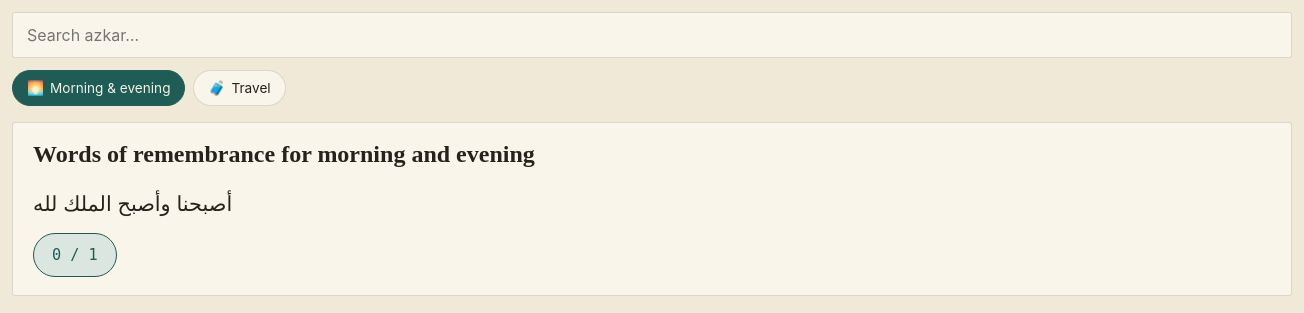
Test: AzkarBrowser › says so when nothing matches
Type "zzz" into the search field at (652, 35), box left=12, top=12, right=1292, bottom=58
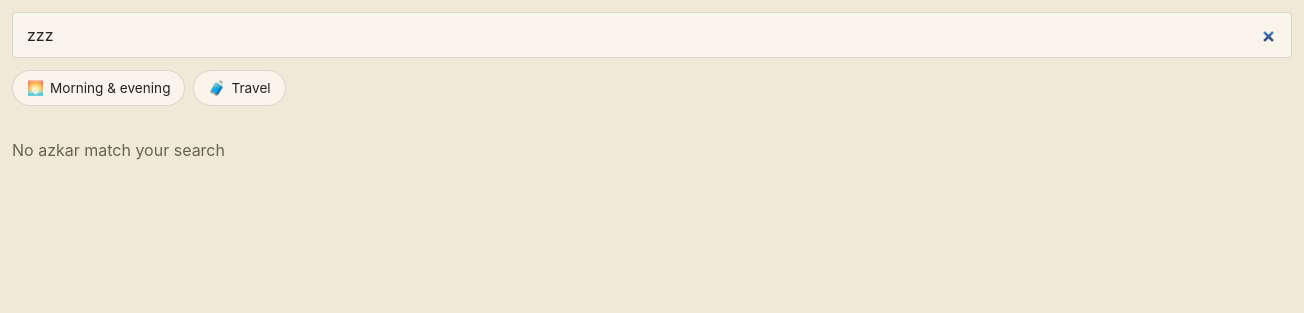
Expected: the text "No azkar match your search" is shown, left=12, top=140, right=225, bottom=160
